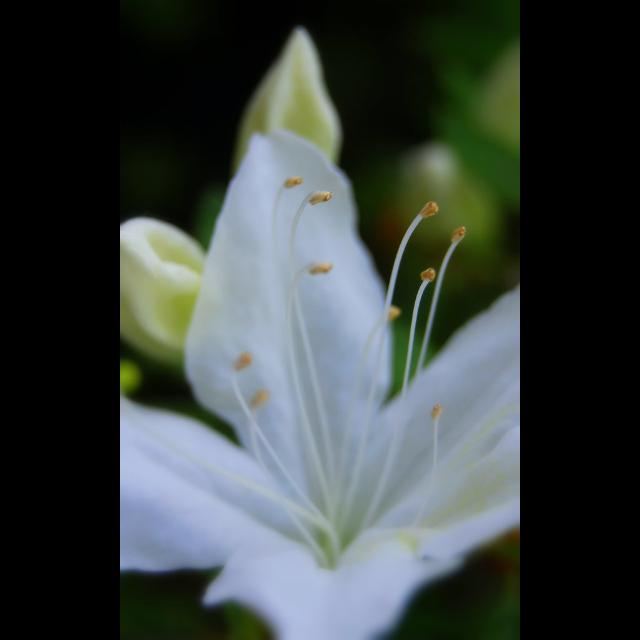Flower: (167, 26, 493, 620)
